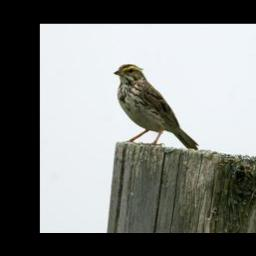Sparrow: (113, 63, 199, 152)
